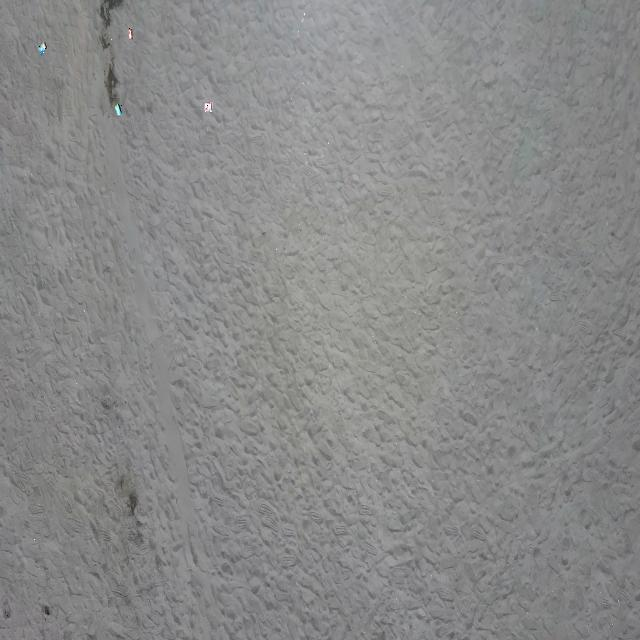Garbage: (203, 100, 212, 111), (37, 42, 44, 55), (114, 103, 120, 115), (128, 27, 131, 39)
